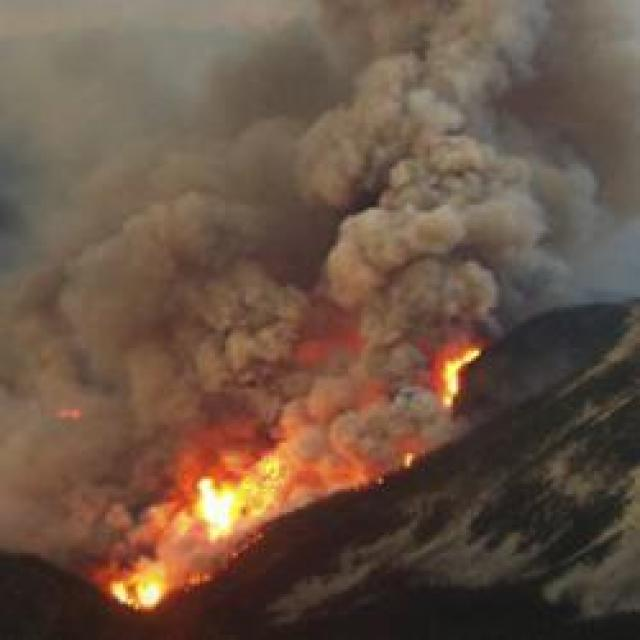fire: (194, 484, 237, 528), (115, 581, 161, 611), (442, 361, 462, 399)
smoke: (66, 235, 227, 443), (316, 0, 564, 97), (362, 79, 480, 263), (345, 214, 497, 334), (2, 246, 88, 426), (217, 260, 311, 402), (498, 139, 602, 238), (333, 388, 439, 460), (58, 480, 140, 563)
